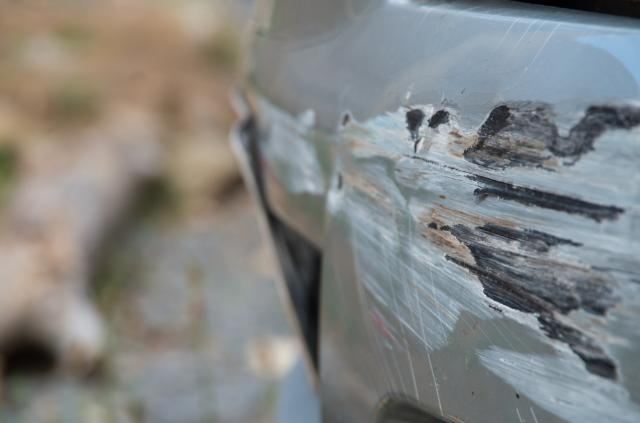scratch: (257, 85, 640, 423)
